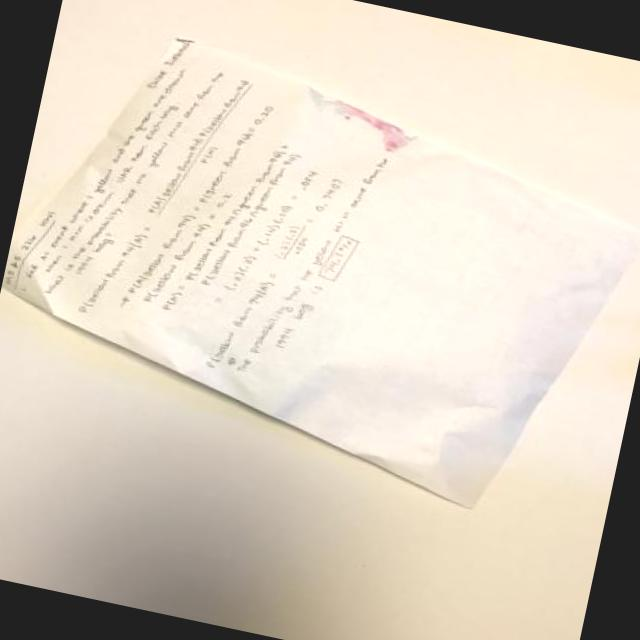paper: (45, 99, 636, 486)
